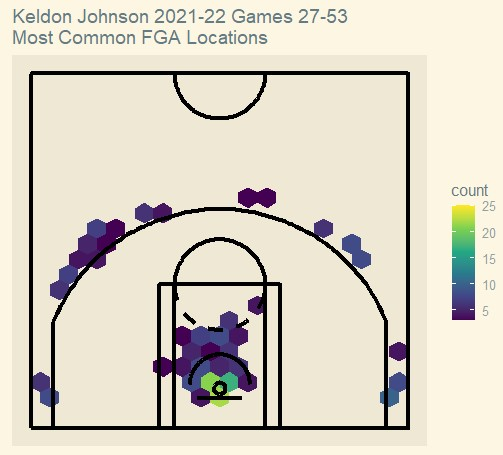

The dashboard page shown, as its layout file describes it:
{"tool":"tableau","page":{"name":"Dashboard 1","canvas":[800,800],"ordinal":0},"visuals":[{"type":"worksheet","title":"Sheet 1","mark":"Automatic","rows":["LOC_Y"],"cols":["LOC_X"],"box":[8,8,624,784]},{"type":"legend","title":"Sheet 1","param":"[federated.03dq9x01td4w500zwbh3a0a7gqdi].[none:SHOT_MADE_FLAG:ok]","box":[632,8,160,72]}]}

Visuals, with their boxes on the page's 800x800 design canvas (x1, y1, x2, y2). These are canvas units, not pixel positions in the 503x455 screenshot, which may show the page scaled, cropped or inside an application window:
"Sheet 1" worksheet: 8/8/632/792
"Sheet 1" legend: 632/8/792/80
